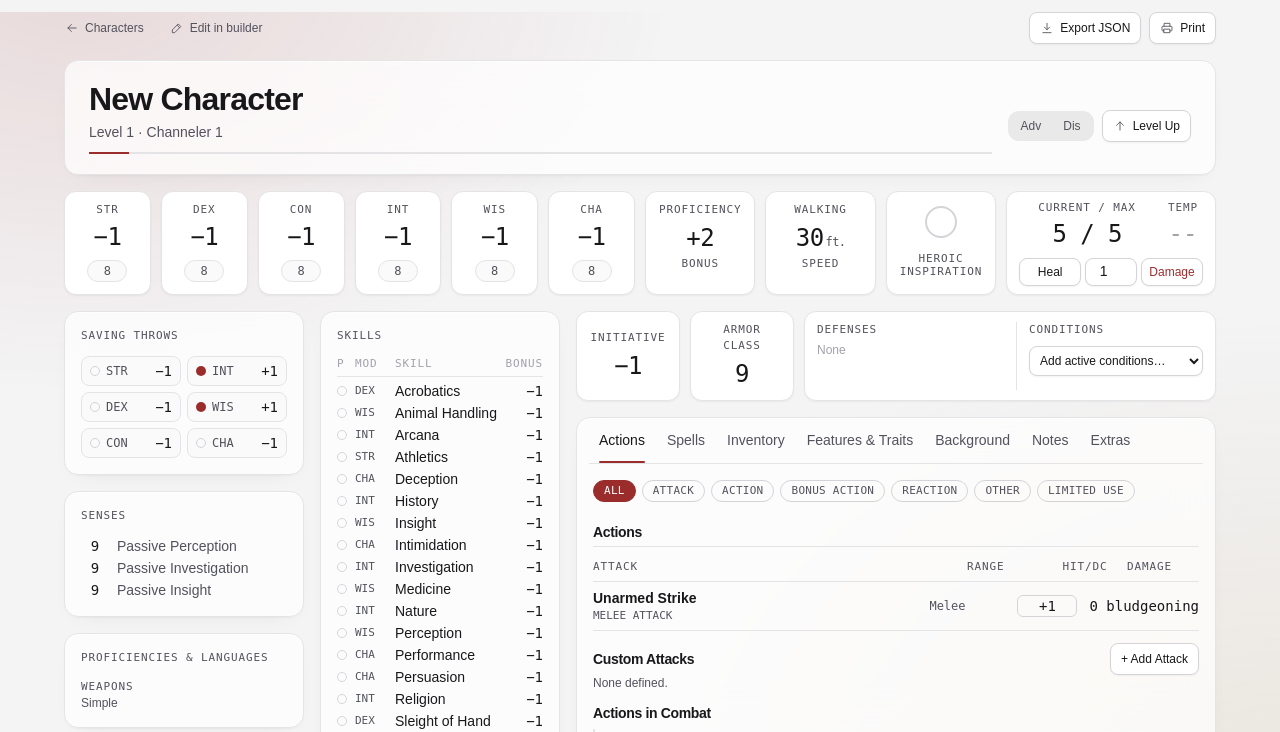
Scenario: FullSheet interactivity › levels up from the sheet header
Expected: the text "Level 1 · Channeler 1" is shown, x1=89 y1=124 x2=223 y2=140
Click the button "Level Up" at coordinates (1146, 126), box x1=1102 y1=110 x2=1191 y2=142
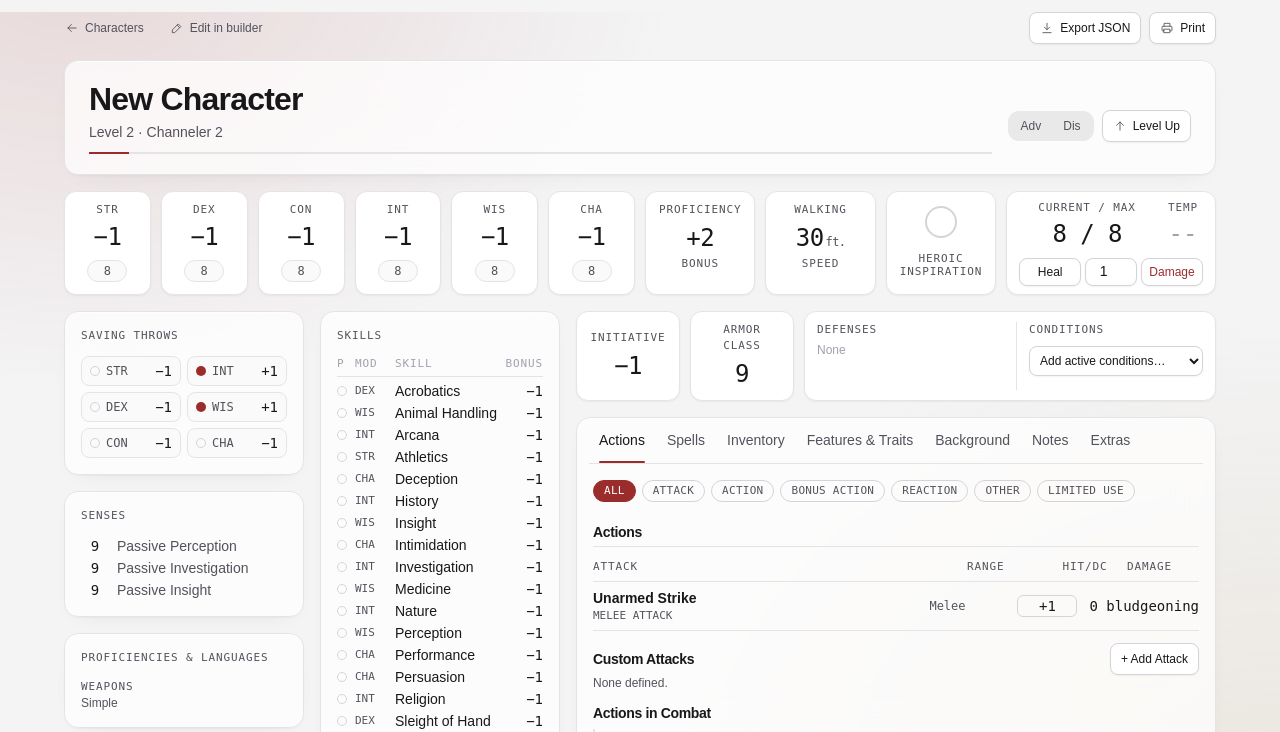
Expected: the text "Level 2 · Channeler 2" is shown, x1=89 y1=124 x2=223 y2=140
